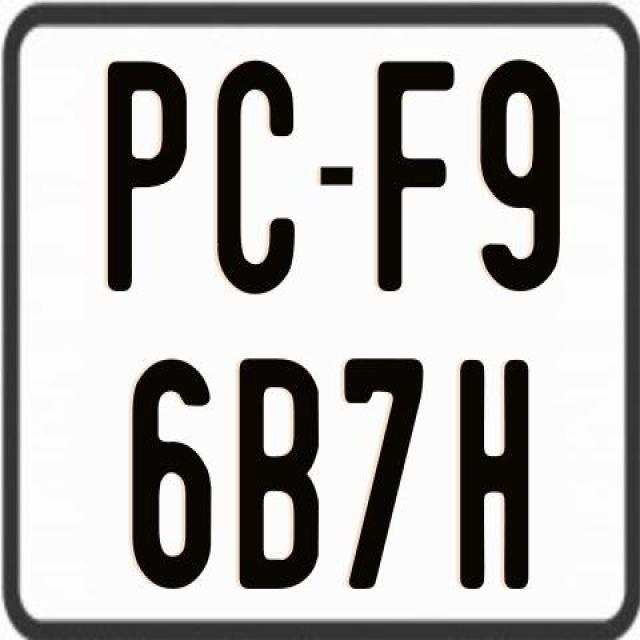6: (130, 356, 217, 594)
7: (340, 357, 423, 590)
9: (476, 54, 562, 293)
B: (237, 357, 320, 592)
C: (215, 56, 298, 290)
F: (376, 56, 459, 288)
H: (456, 357, 527, 589)
P: (108, 61, 190, 292)
